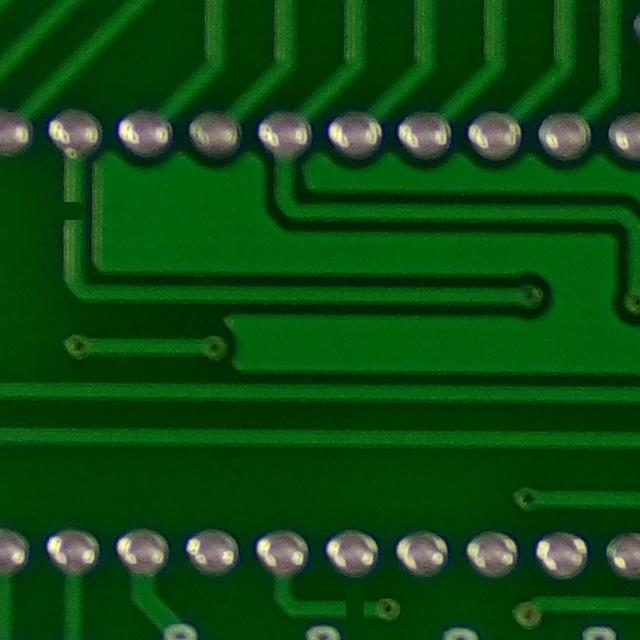open_circuit: (332, 587, 375, 632), (57, 191, 92, 232)
